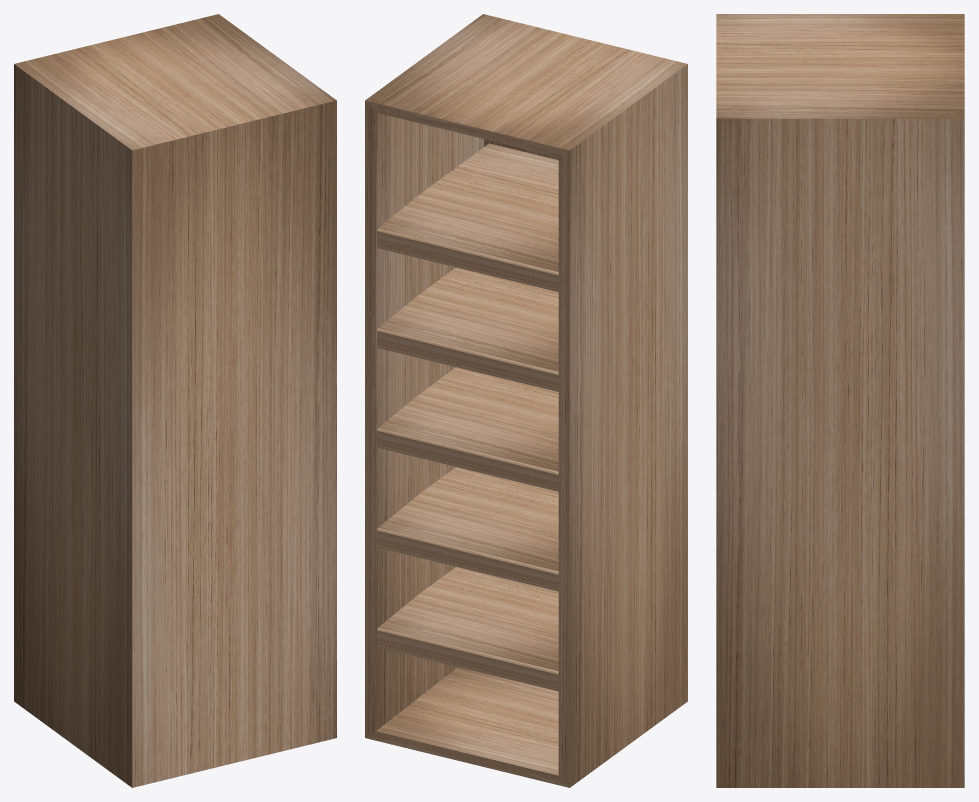
File: lemari2.glb
The picture shows the model from 3 angles, left to right: view 1: azimuth 30°, elevation 25°; view 2: azimuth 150°, elevation 25°; view 3: azimuth 270°, elevation 25°; orthographic projection. The views are drawn at different scales.
Parts seen in each view (by area): view 1: Cube; view 2: Cube, Cube.001; view 3: Cube.
Boxes of the visible parts, x1=… form: Cube: x1=14, y1=14, x2=336, y2=787; Cube: x1=365, y1=14, x2=687, y2=787; Cube.001: x1=377, y1=143, x2=558, y2=691; Cube: x1=716, y1=14, x2=964, y2=787.
Size of the model in its own units: 2 by 5.95 by 2.
Materials: 1 (1 with a texture image).
